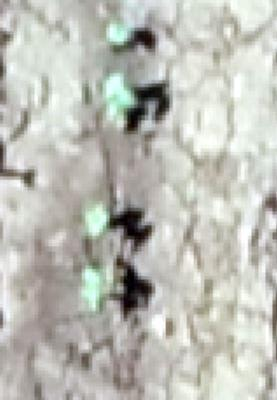cotton: (82, 266, 106, 309), (105, 76, 127, 121), (83, 204, 107, 234), (107, 23, 132, 47)
